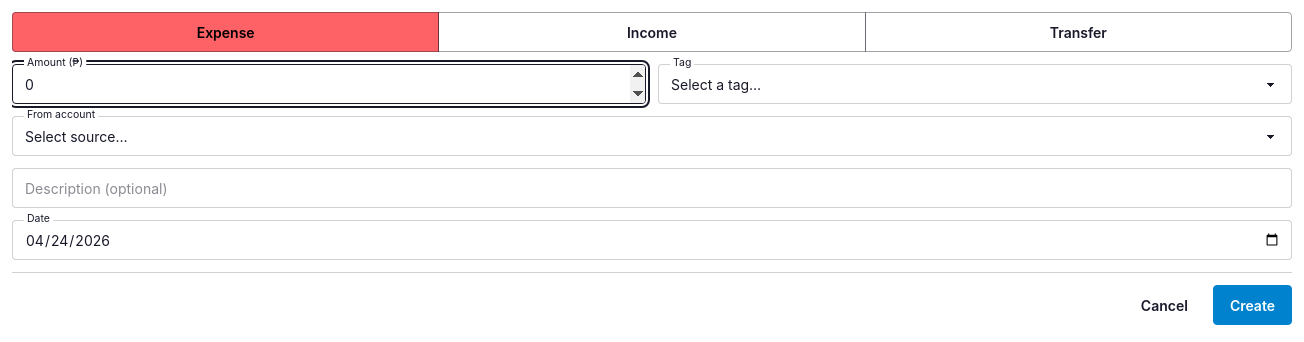
Test: TransactionForm type switching › switching to income hides From, reveals To
What coordinates should you click on to do the following:
click the button "Income"
I would click on:
 (652, 32)
Its box is [438, 12, 866, 52].
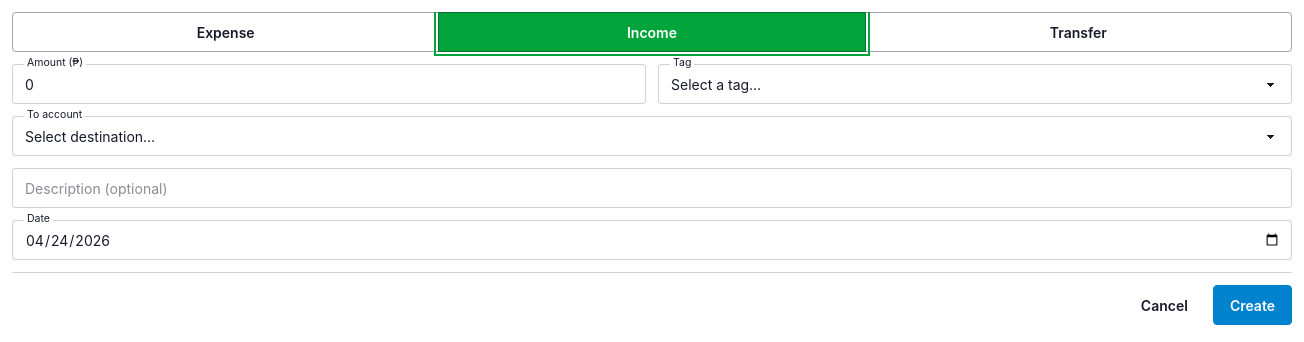
Expected: the text "From account" is gone
Expected: the text "To account" is shown, [24, 109, 85, 120]
